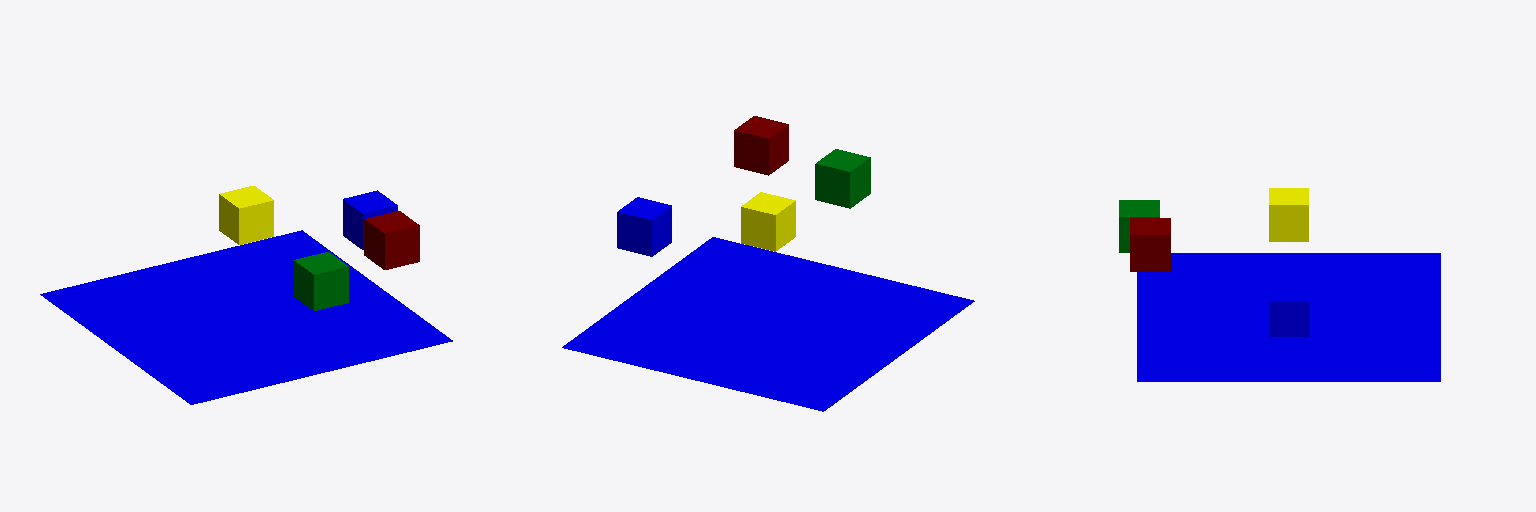
File: cubes.obj
3 renders of one model, left to right at view 1: azimuth 30°, elevation 25°; view 2: azimuth 150°, elevation 25°; view 3: azimuth 270°, elevation 25°, orthographic.
Parts seen in each view (by area): view 1: pPlane1, pCube4, pCube2, pCube1, pCube3; view 2: pPlane1, pCube1, pCube2, pCube3, pCube4; view 3: pPlane1, pCube4, pCube2, pCube3, pCube1.
Boxes of the visible parts, <box> form: pPlane1: <box>40,230,452,404</box>; pCube4: <box>364,211,419,269</box>; pCube2: <box>219,186,273,244</box>; pCube1: <box>294,252,348,310</box>; pCube3: <box>343,190,397,249</box>; pPlane1: <box>562,237,974,411</box>; pCube1: <box>815,149,870,208</box>; pCube2: <box>741,192,795,251</box>; pCube3: <box>617,197,671,256</box>; pCube4: <box>734,116,788,175</box>; pPlane1: <box>1137,253,1440,381</box>; pCube4: <box>1130,218,1170,271</box>; pCube2: <box>1269,188,1308,241</box>; pCube3: <box>1269,284,1308,336</box>; pCube1: <box>1119,200,1159,252</box>.
Bounding box in the file's own units: 31.11 × 13.94 × 31.78.